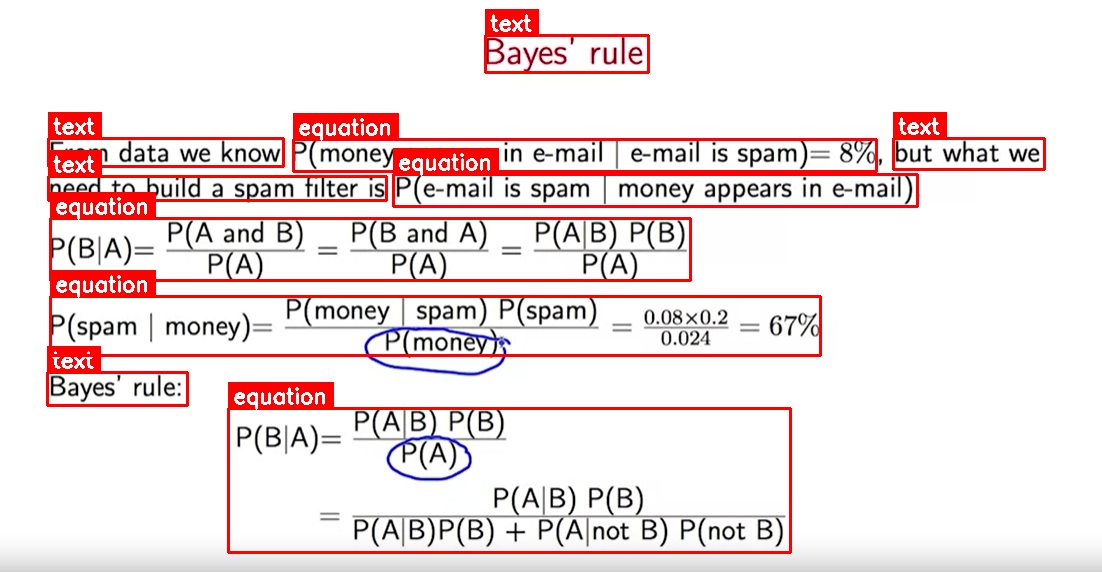equation: (228, 408, 790, 552), (50, 296, 820, 355), (50, 218, 690, 280), (293, 139, 876, 171), (393, 174, 917, 206)
text: (48, 176, 386, 200), (48, 138, 283, 166), (485, 35, 648, 72), (893, 138, 1044, 169), (47, 372, 187, 405)
